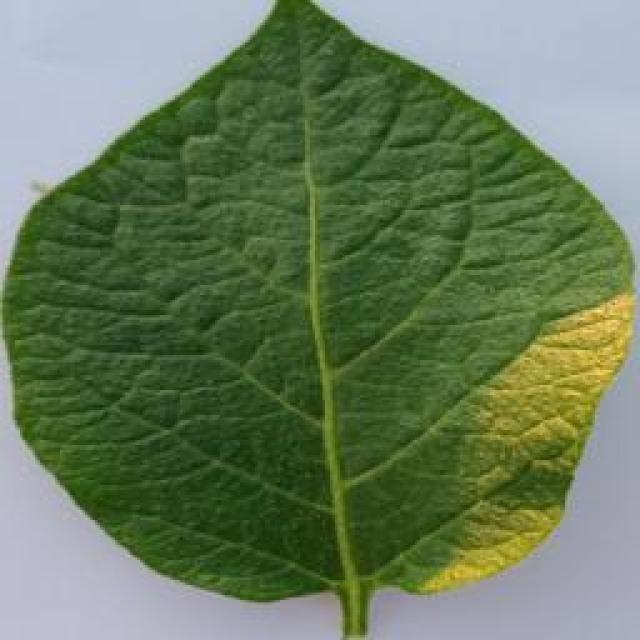Potato_Healthy: (5, 0, 623, 628)
